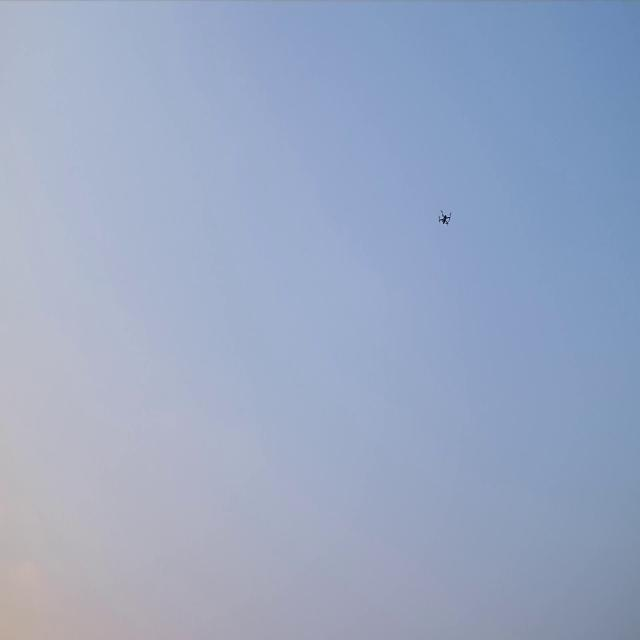UAV: (439, 211, 450, 223)
